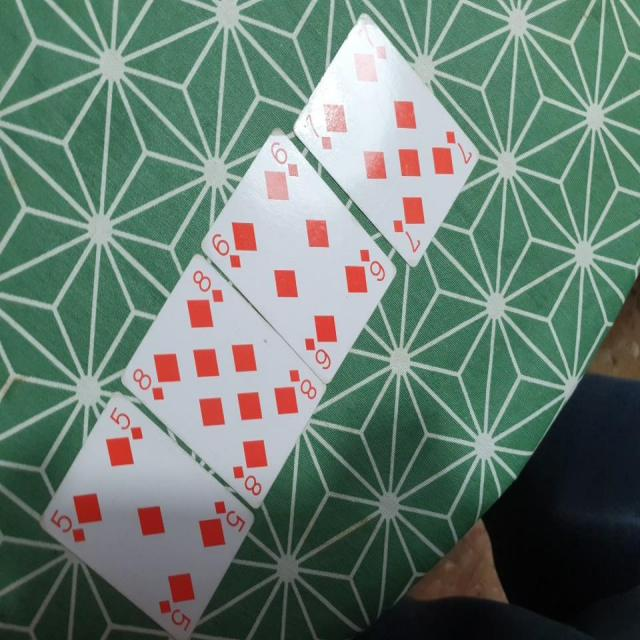5 Diamonds: (35, 384, 254, 631)
6 Diamonds: (199, 124, 394, 384)
7 Diamonds: (291, 12, 480, 270)
8 Diamonds: (121, 254, 326, 508)
